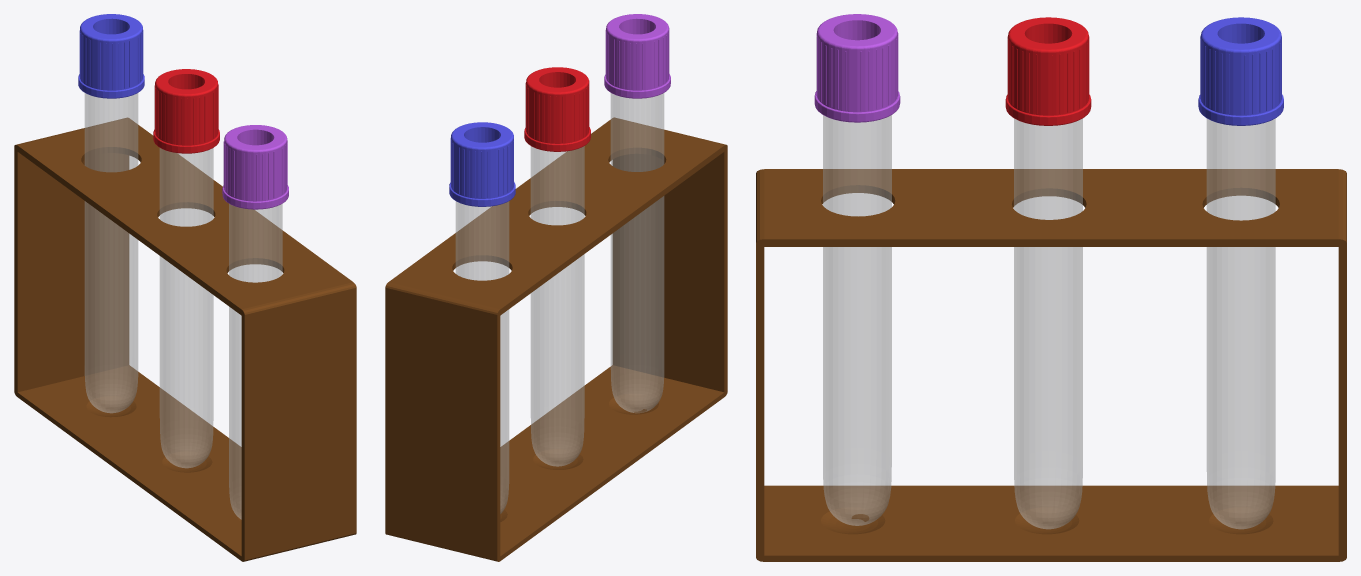
File: Frascosangreygradilla.fbx
3 views of the same model, side by side, from view 1: azimuth 30°, elevation 25°; view 2: azimuth 150°, elevation 25°; view 3: azimuth 270°, elevation 25° (orthographic). The views are drawn at different scales.
Visible parts, largest first — view 1: Cube.001, Cylinder.001, Cylinder.003, Cylinder.005; view 2: Cube.001, Cylinder.005, Cylinder.003, Cylinder.001; view 3: Cube.001, Cylinder.001, Cylinder.003, Cylinder.005.
Part boxes in pixels (x1,y1,x2,y2): Cube.001: (14, 117, 356, 561); Cylinder.001: (78, 14, 144, 413); Cylinder.003: (153, 69, 219, 468); Cylinder.005: (222, 125, 288, 519); Cube.001: (385, 117, 727, 561); Cylinder.005: (604, 14, 670, 412); Cylinder.003: (524, 67, 590, 466); Cylinder.001: (449, 122, 515, 513); Cube.001: (756, 169, 1346, 561); Cylinder.001: (1198, 17, 1283, 529); Cylinder.003: (1005, 17, 1091, 529); Cylinder.005: (814, 14, 900, 525).
Bounding box in the file's own units: 200 × 657 × 713.
